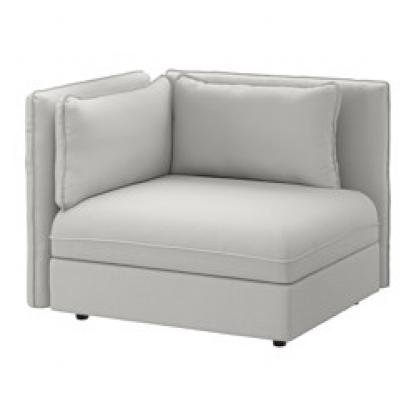Sofa: (18, 48, 396, 358)
